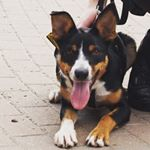puppy: (42, 1, 128, 150)
